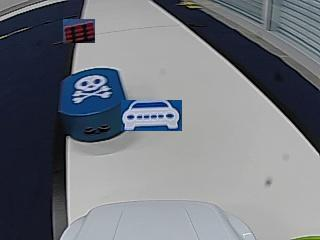danger: (72, 75, 109, 103)
